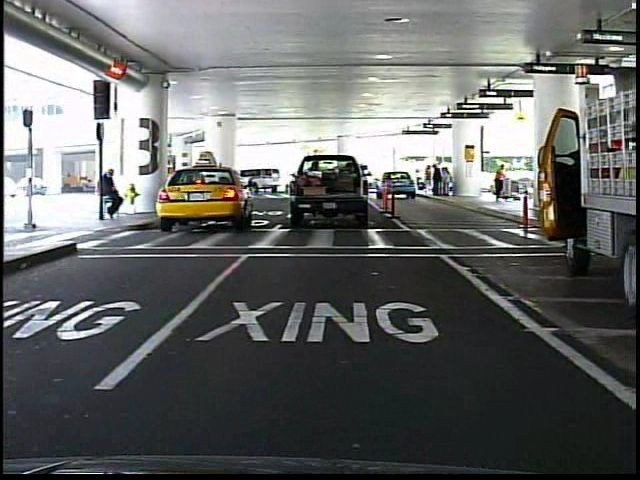person: (100, 163, 127, 224), (492, 159, 512, 207)
